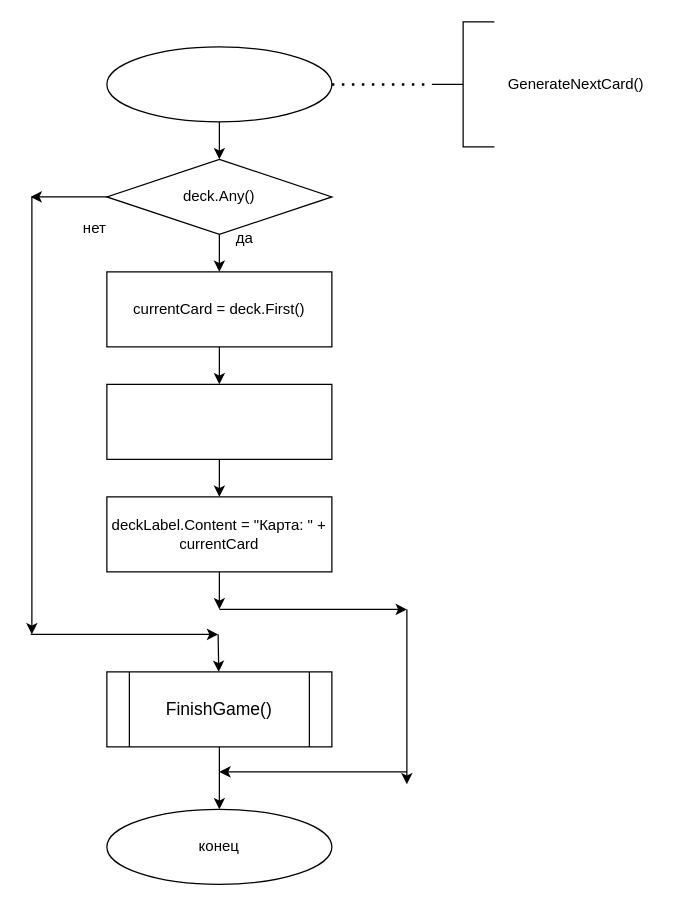
This 679x906 diagram has some shape labels left out. The shapes that lost their labels are listed below. From the top down, each one's centre as x and y in pixels, then its label:
the point at 219,84: начало
the point at 219,421: deck.RemoveAt(0)
